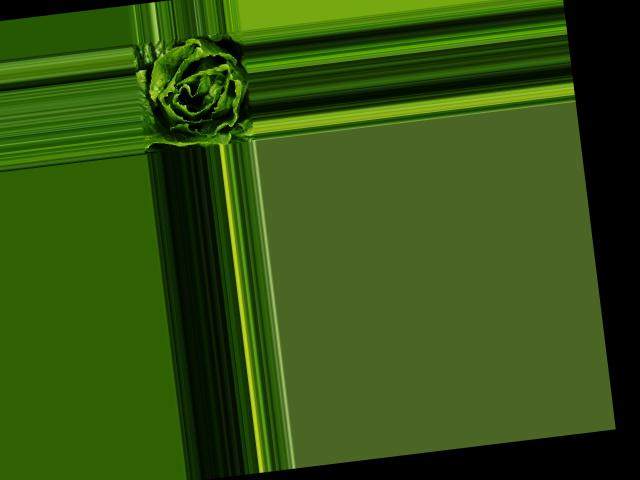lettuce: (131, 32, 254, 153)
